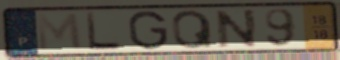9: (264, 8, 299, 48)
G: (126, 10, 171, 51)
L: (84, 11, 124, 52)
M: (34, 12, 86, 53)
N: (213, 8, 259, 50)
Q: (170, 9, 216, 50)
